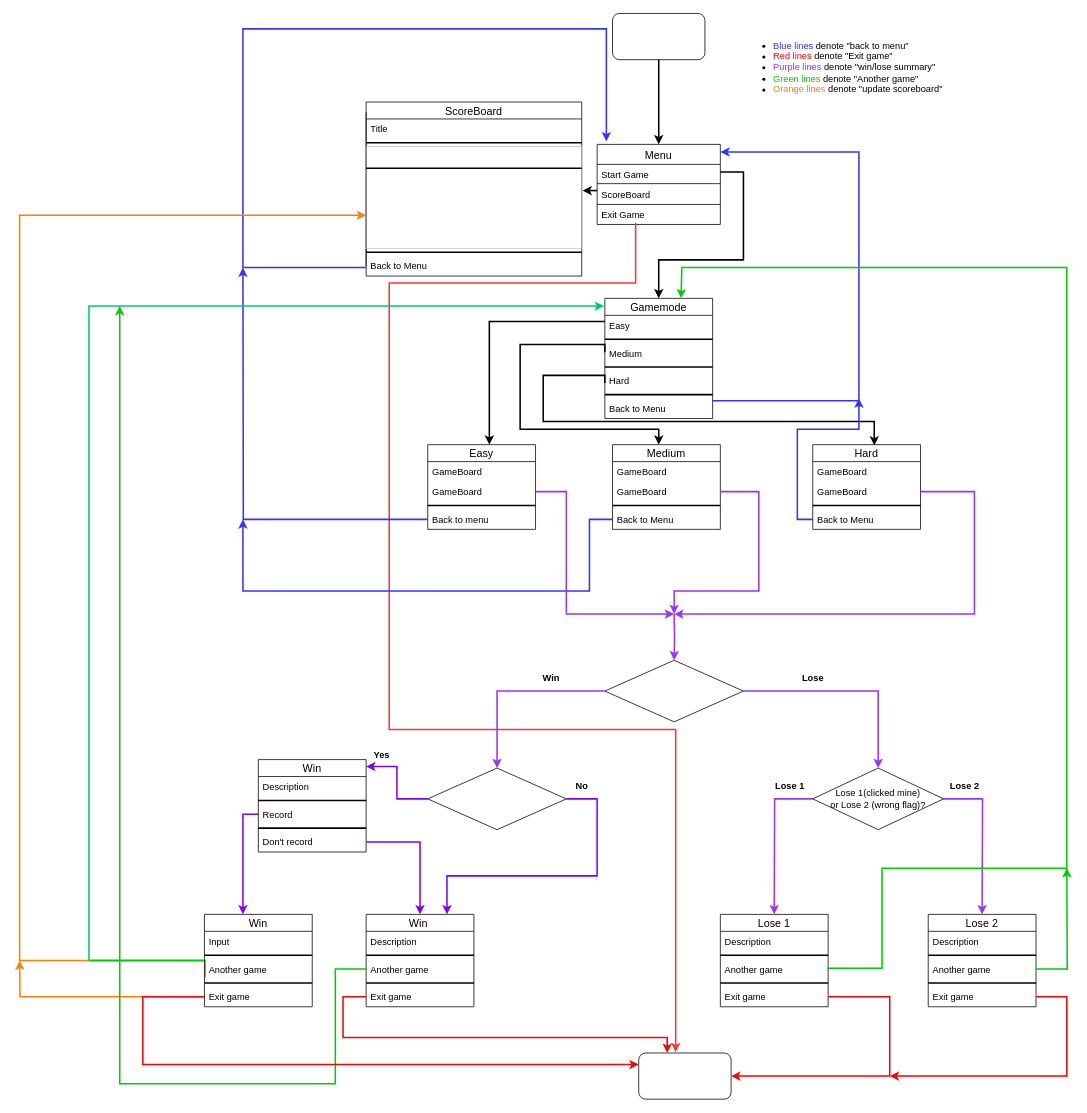
The diagram is 1087 pixels wide and 1113 high, and some of its shapes have lost their labels. Each missing label, with the centre of its shape:
End: the point at 684,1075
Name Mode Score player1 mode1 score1 player2 mode2 score2: the point at 473,197
New high score?: the point at 496,798
Start: the point at 658,36
Win / Lose?: the point at 673,691
